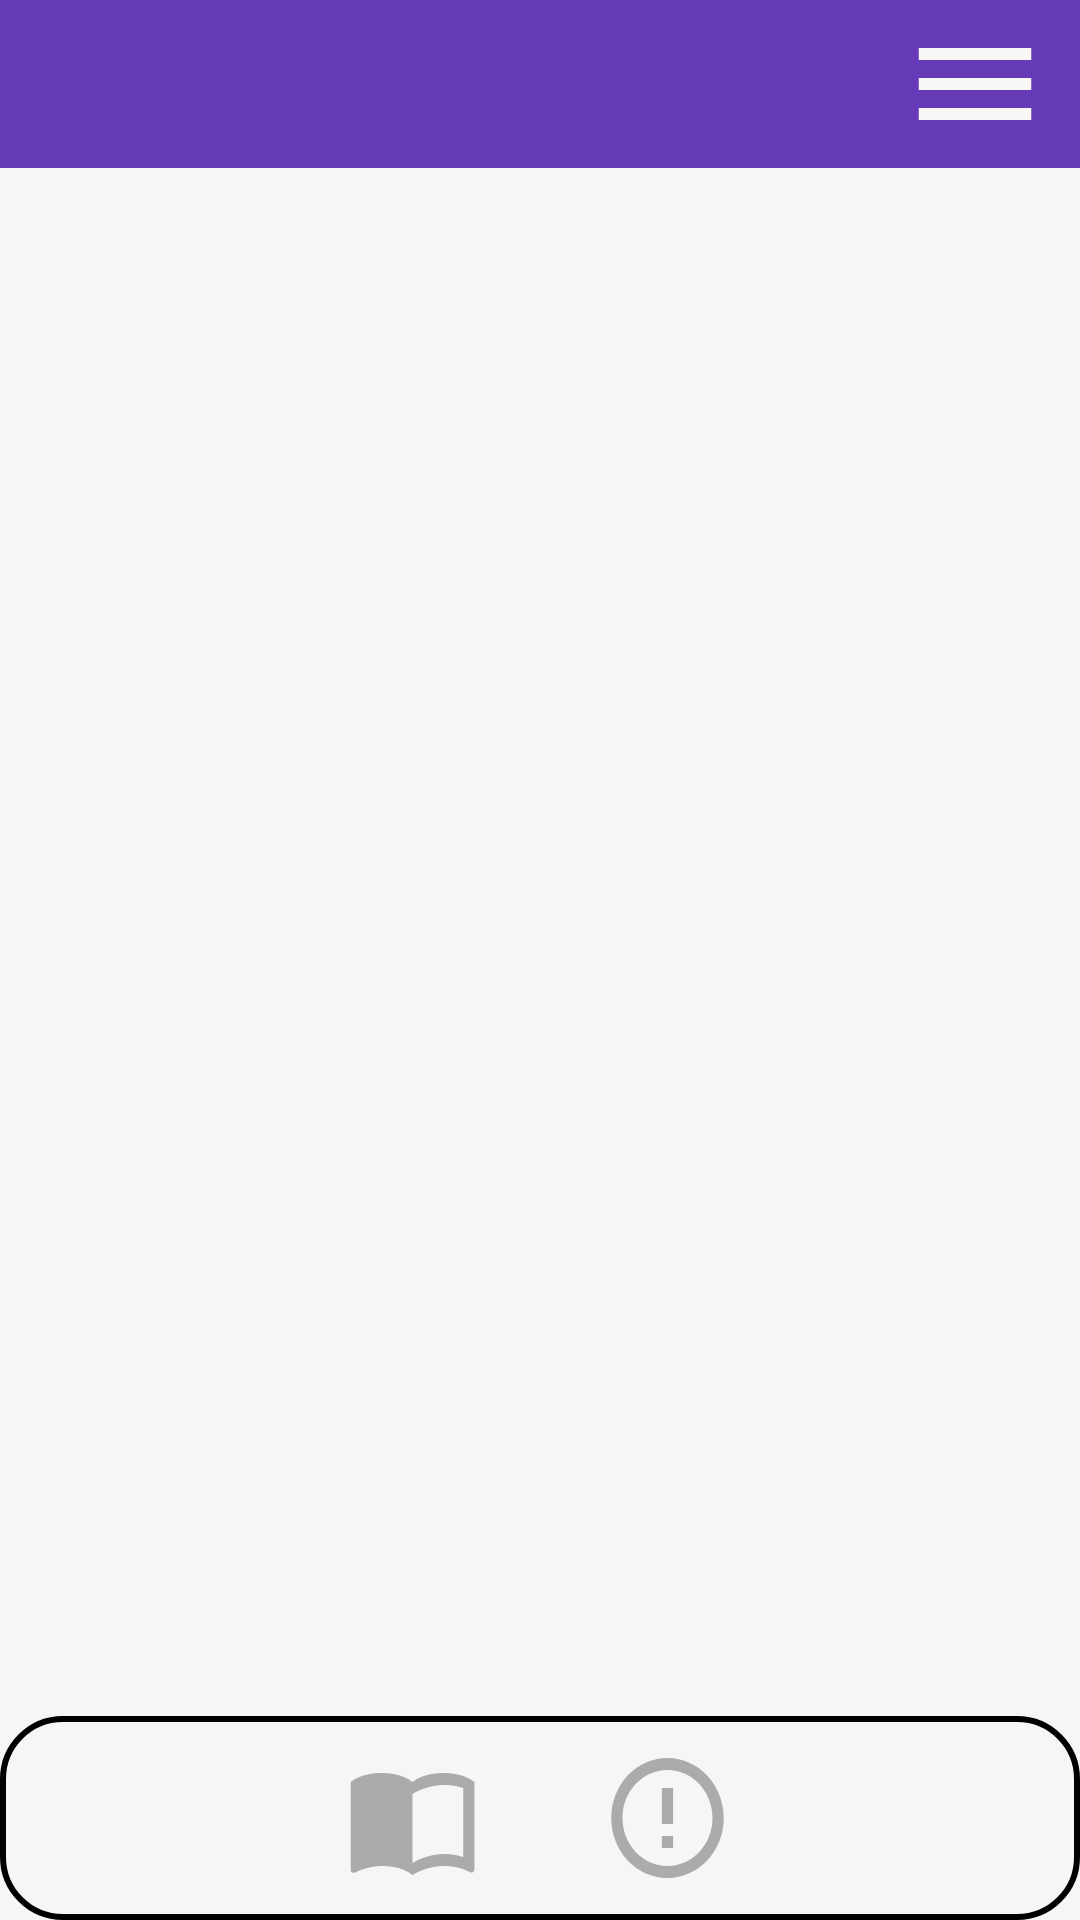

Named icons in this screenshot (1080*1920) and their bounding boxes, (x1, y1, x2, y2):
error: (611, 1758, 724, 1878)
menu: (918, 48, 1032, 120)
